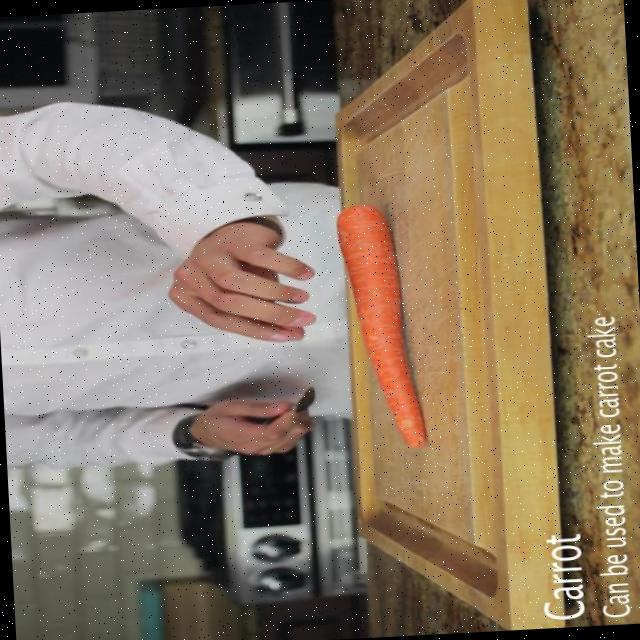carrot: (337, 204, 425, 447)
